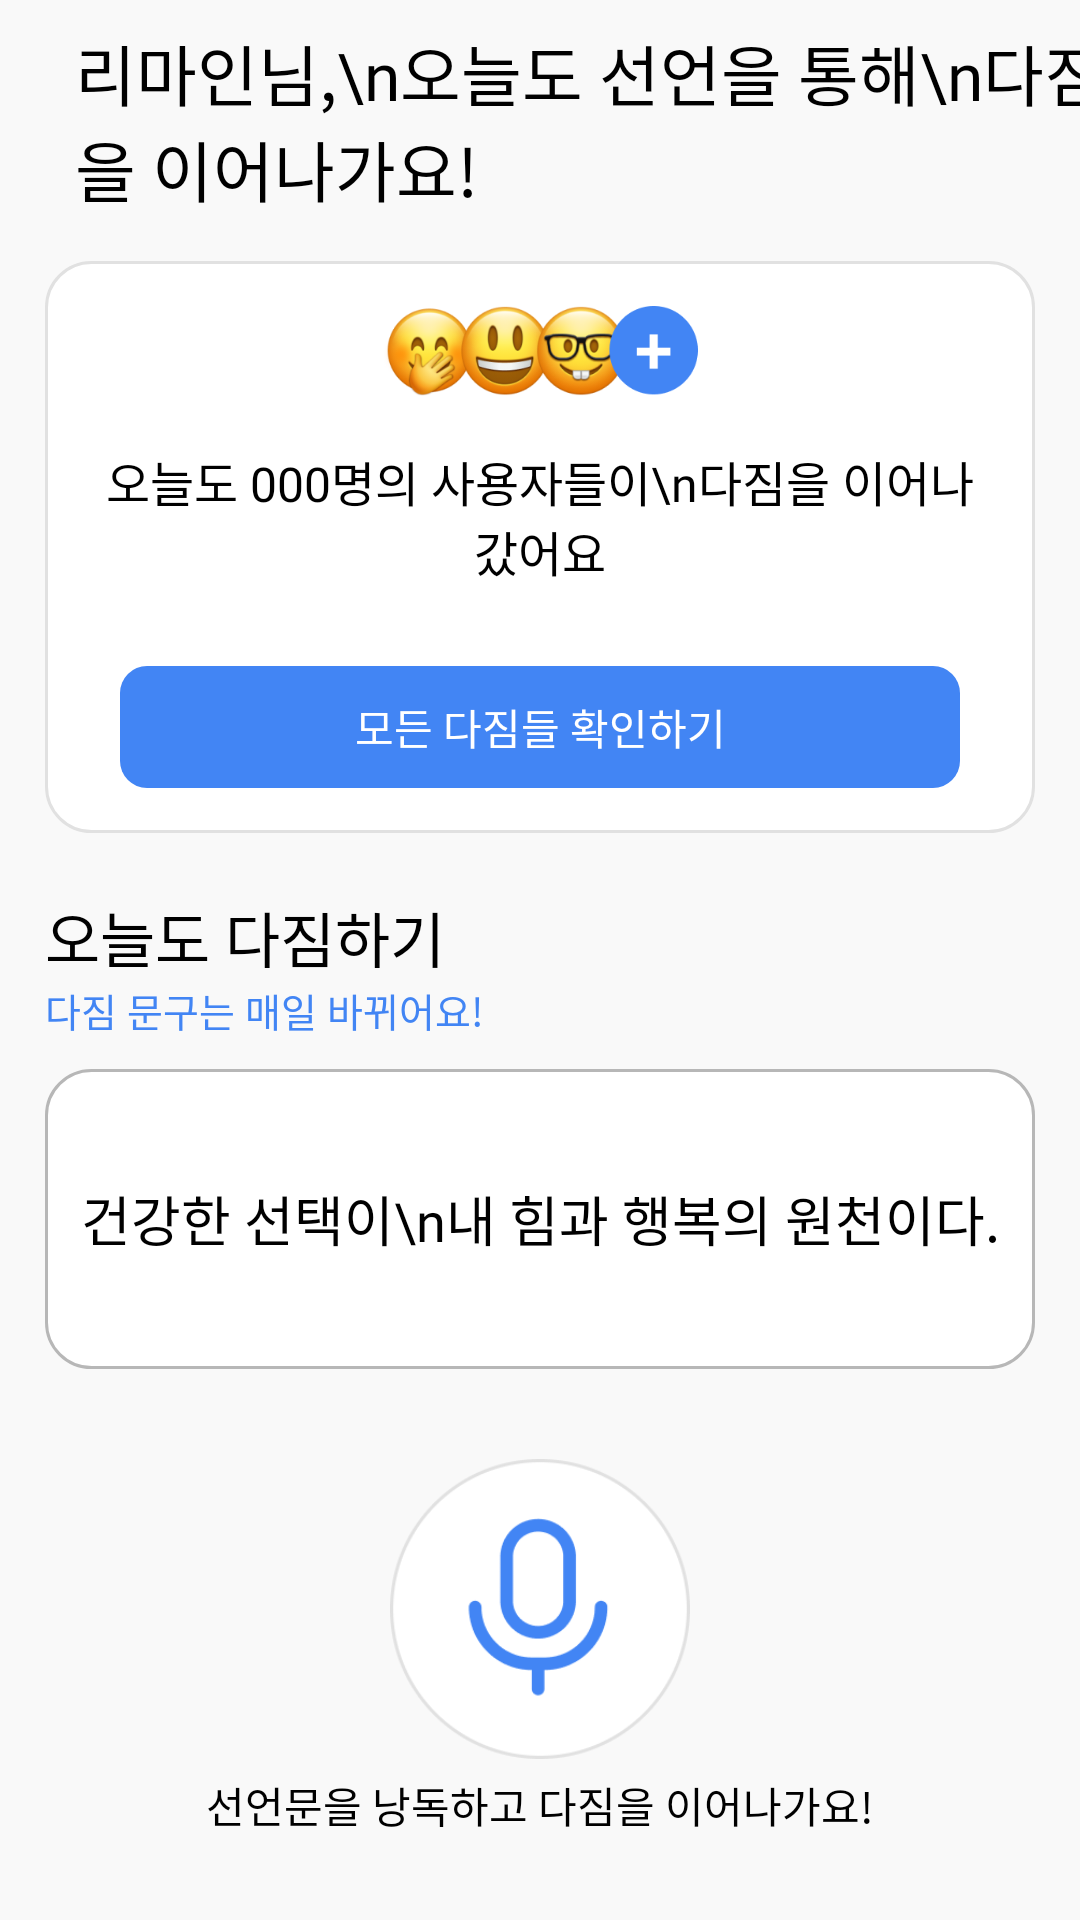

Point at icon controls on the screen. Image size 1080w x 1920h, points as [x,y].
people: [542,350]
